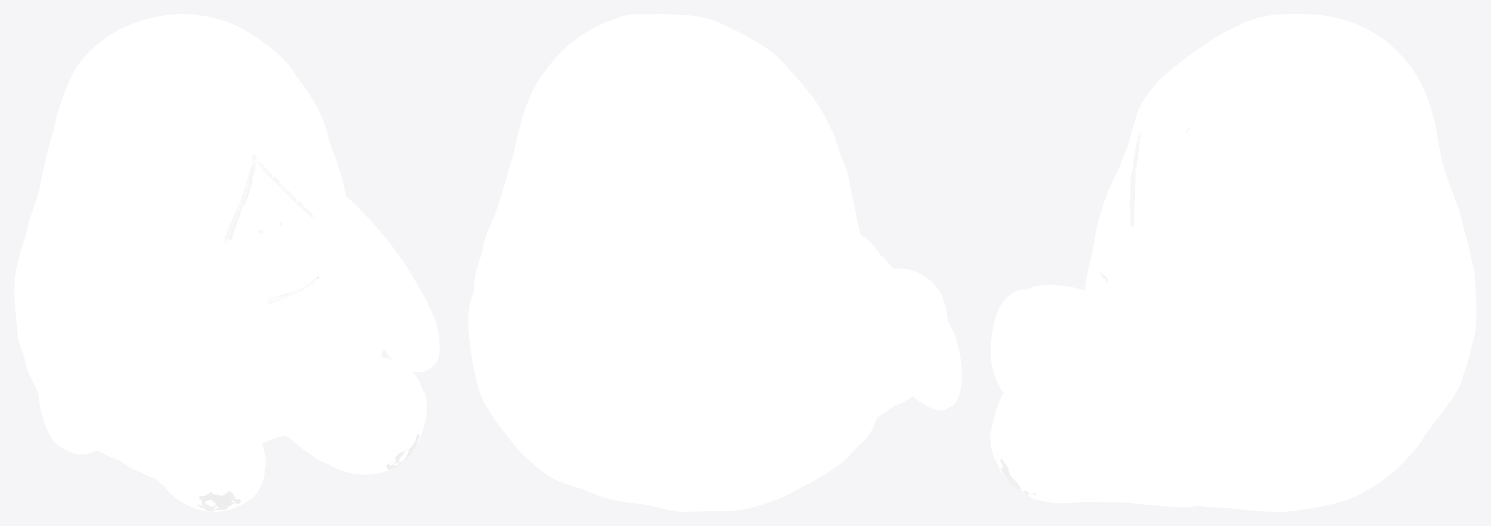
The model's file is Prize_3.glb.
3 views of the same model, side by side, from view 1: azimuth 30°, elevation 25°; view 2: azimuth 150°, elevation 25°; view 3: azimuth 270°, elevation 25° (orthographic). The views are drawn at different scales.
Parts seen in each view (by area): view 1: Mesh1.0; view 2: Mesh1.0; view 3: Mesh1.0.
Part boxes in pixels (x1,y1,x2,y2): Mesh1.0: (14, 14, 439, 511); Mesh1.0: (468, 14, 961, 511); Mesh1.0: (990, 14, 1476, 511).
Bounding box in the file's own units: 1.91 × 1.84 × 1.87.
1 material, 1 textured.
